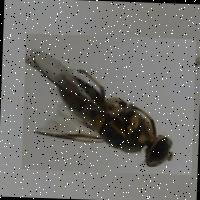Oriental-fruit-fly: (21, 32, 196, 174)
